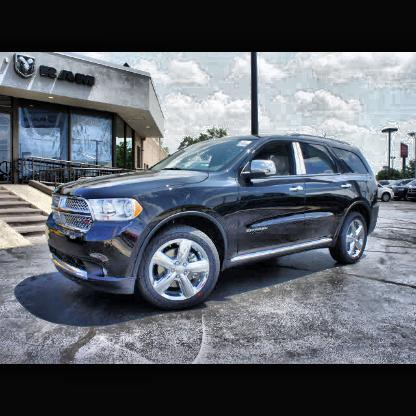Dodge Durango SUV 2012: (45, 135, 381, 312)
